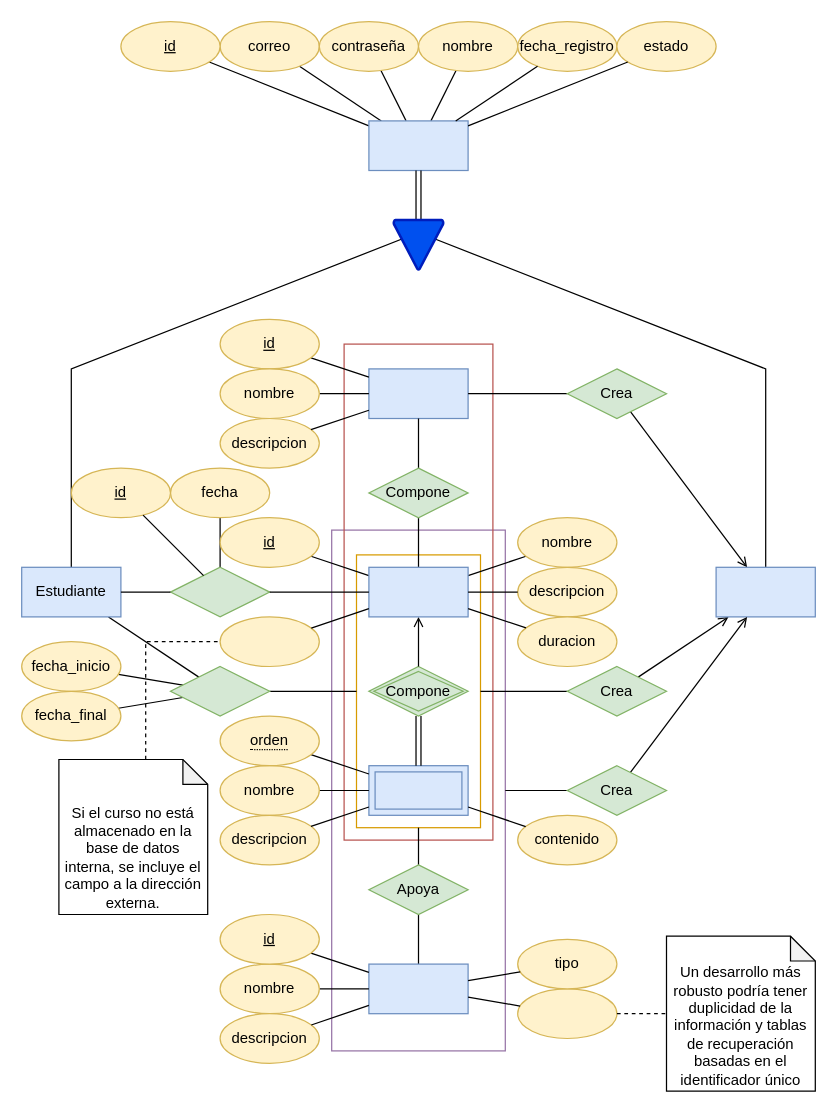
This 837x1114 diagram has some shape labels left out. Each missing label, with the centre of its shape:
"Administrador" belongs at point 765,591.
"Capítulo" belongs at point 418,789.
"Completa" belongs at point 219,591.
"Cursa" belongs at point 219,690.
"Curso" belongs at point 418,591.
"direccion" belongs at point 566,1013.
"ES" belongs at point 418,244.
"Material" belongs at point 418,988.
"Módulo" belongs at point 418,393.
"url_externa" belongs at point 269,641.
"Usuario" belongs at point 418,145.
